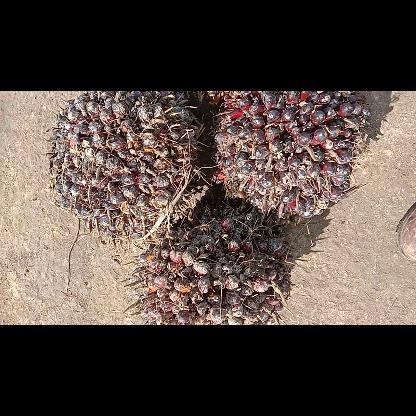Kurang masak: (50, 91, 209, 233), (211, 91, 372, 223), (132, 206, 296, 324)
